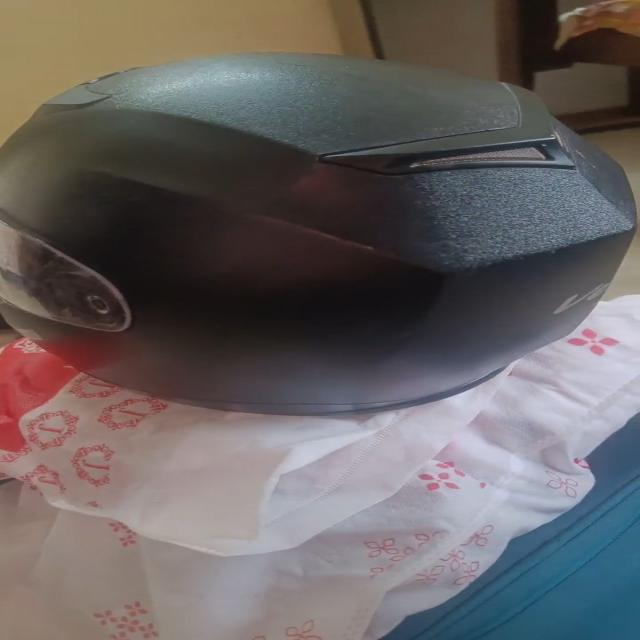Helmet: (2, 54, 636, 415)
